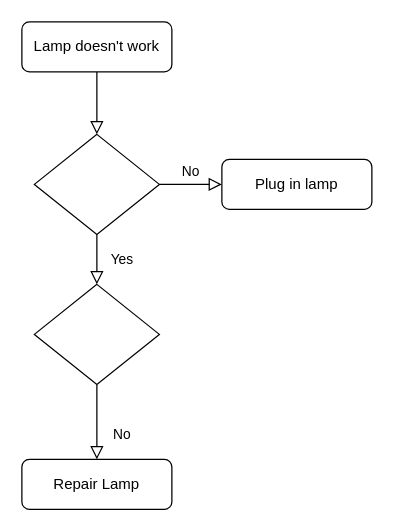
Image size: 394x531. Some labels were removed from this diagram. Each missing label, with the box of its shape:
Bulb burned out?: (33, 283, 159, 384)
Lamp plugged in?: (33, 133, 159, 234)
